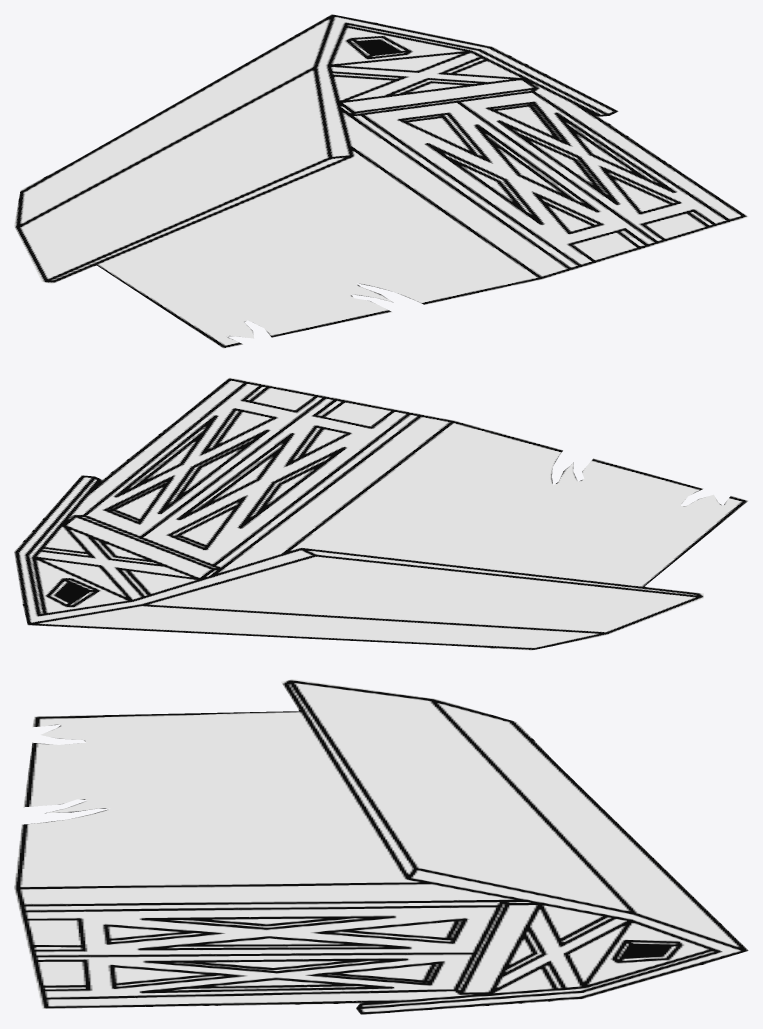
File: FarmHouse.fbx
3 renders of one model, top to bottom at view 1: azimuth 30°, elevation 25°; view 2: azimuth 150°, elevation 25°; view 3: azimuth 270°, elevation 25°, orthographic. The views are drawn at different scales.
Parts seen in each view (by area): view 1: Plane.006; view 2: Plane.006; view 3: Plane.006.
Part boxes in pixels (bbox=[...]): Plane.006: bbox=[14, 14, 748, 348]; Plane.006: bbox=[14, 377, 748, 650]; Plane.006: bbox=[14, 679, 748, 1014].
Bounding box in the file's own units: 342 × 5.15e-05 × 316.
